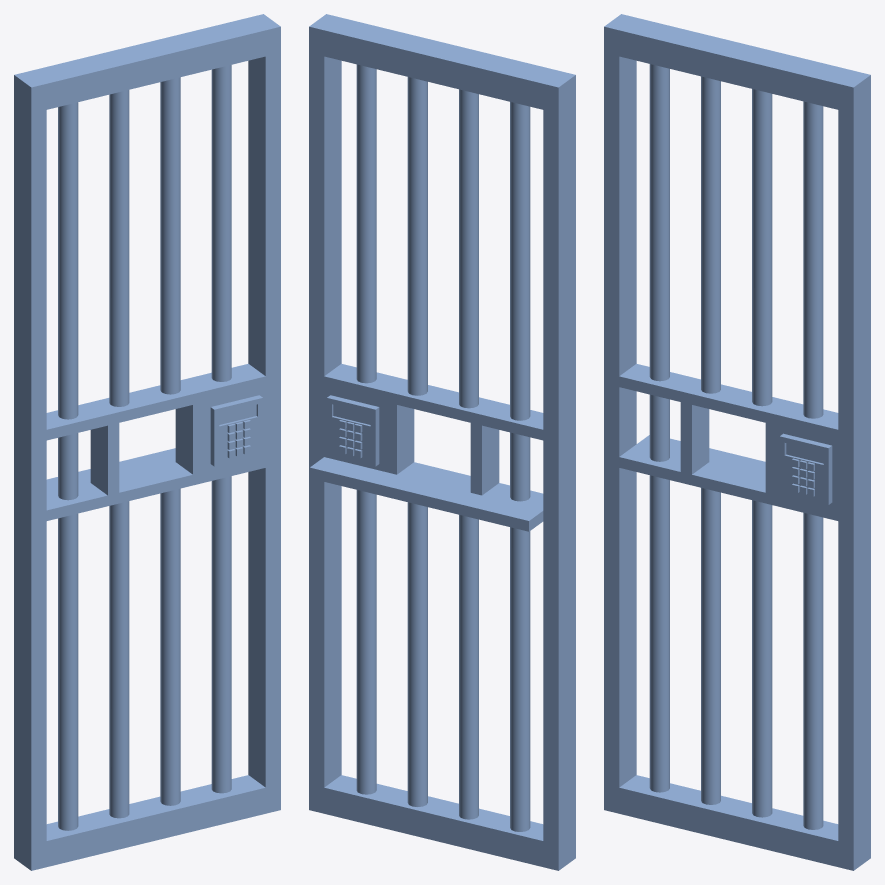
File: puertaCelda.obj
The picture shows the model from 3 angles, left to right: view 1: azimuth 30°, elevation 25°; view 2: azimuth 150°, elevation 25°; view 3: azimuth 330°, elevation 25°; orthographic projection.
Visible parts, largest first — view 1: Box005; view 2: Box005; view 3: Box005.
Part boxes in pixels (<box>): Box005: <box>14,14,280,870</box>; Box005: <box>309,14,575,870</box>; Box005: <box>604,14,870,870</box>.
Bounding box in the file's own units: 10 × 30 × 2.55.
